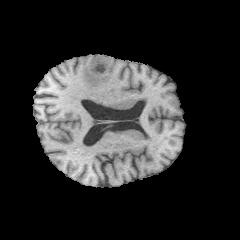glioma: (80, 56, 116, 95)
